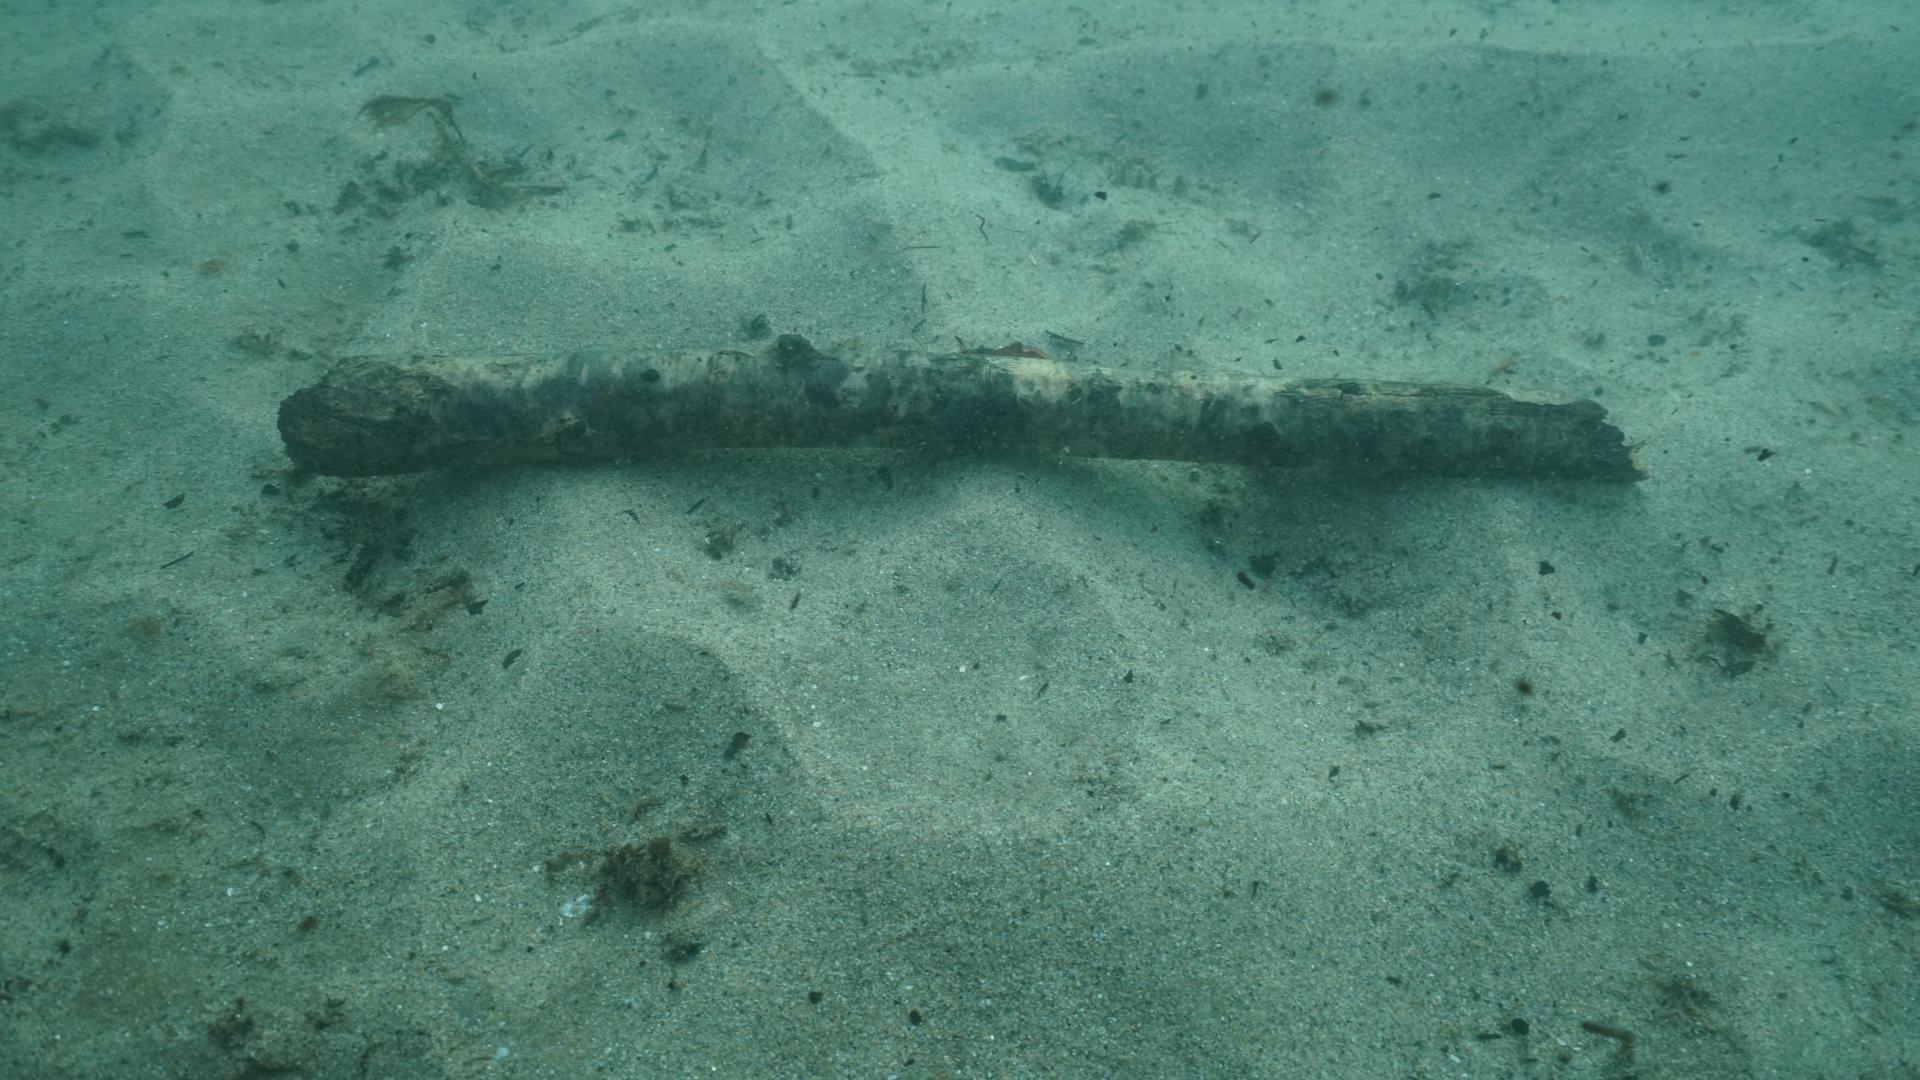wood: (272, 344, 1652, 485)
